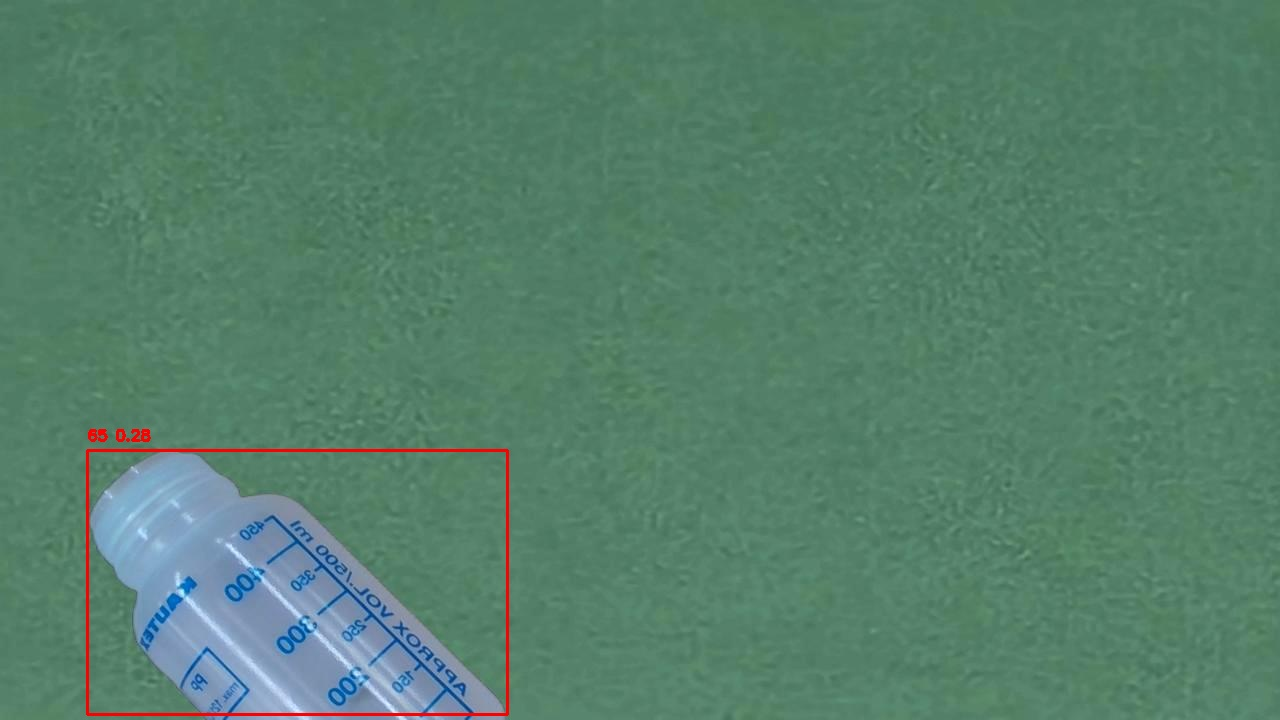cup: (87, 450, 507, 714)
